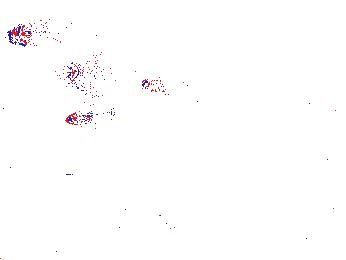X-ray fish: (56, 50, 131, 100), (3, 17, 62, 47)
red belly glassfish: (64, 104, 117, 127), (137, 76, 188, 94)
redtail glassfish: (197, 4, 270, 40), (289, 81, 346, 114), (305, 20, 346, 49)
